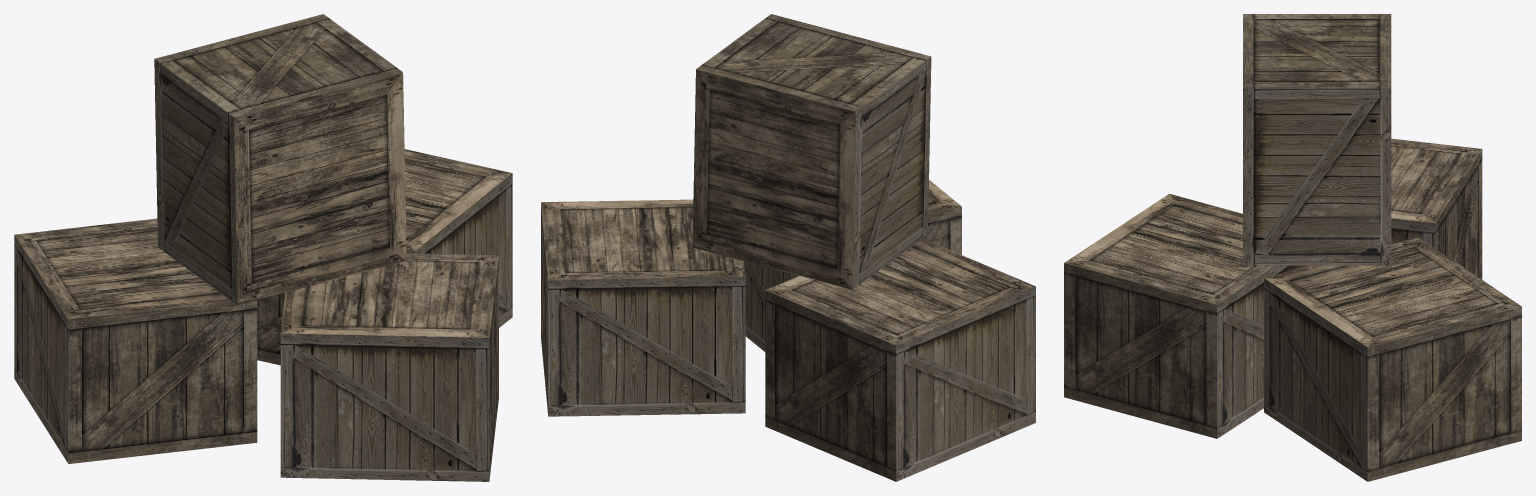
Rendered from boxes.glb.
3 views of the same model, side by side, from view 1: azimuth 30°, elevation 25°; view 2: azimuth 150°, elevation 25°; view 3: azimuth 270°, elevation 25° (orthographic). The views are drawn at different scales.
Parts seen in each view (by area): view 1: boxes; view 2: boxes; view 3: boxes.
Part boxes in pixels (box(x1,y1,x2,y2)): boxes: box(14, 14, 512, 481); boxes: box(541, 14, 1035, 481); boxes: box(1064, 14, 1521, 481).
Size of the model in its own units: 0.585 by 0.3896 by 0.5146.
1 material, 1 textured.
